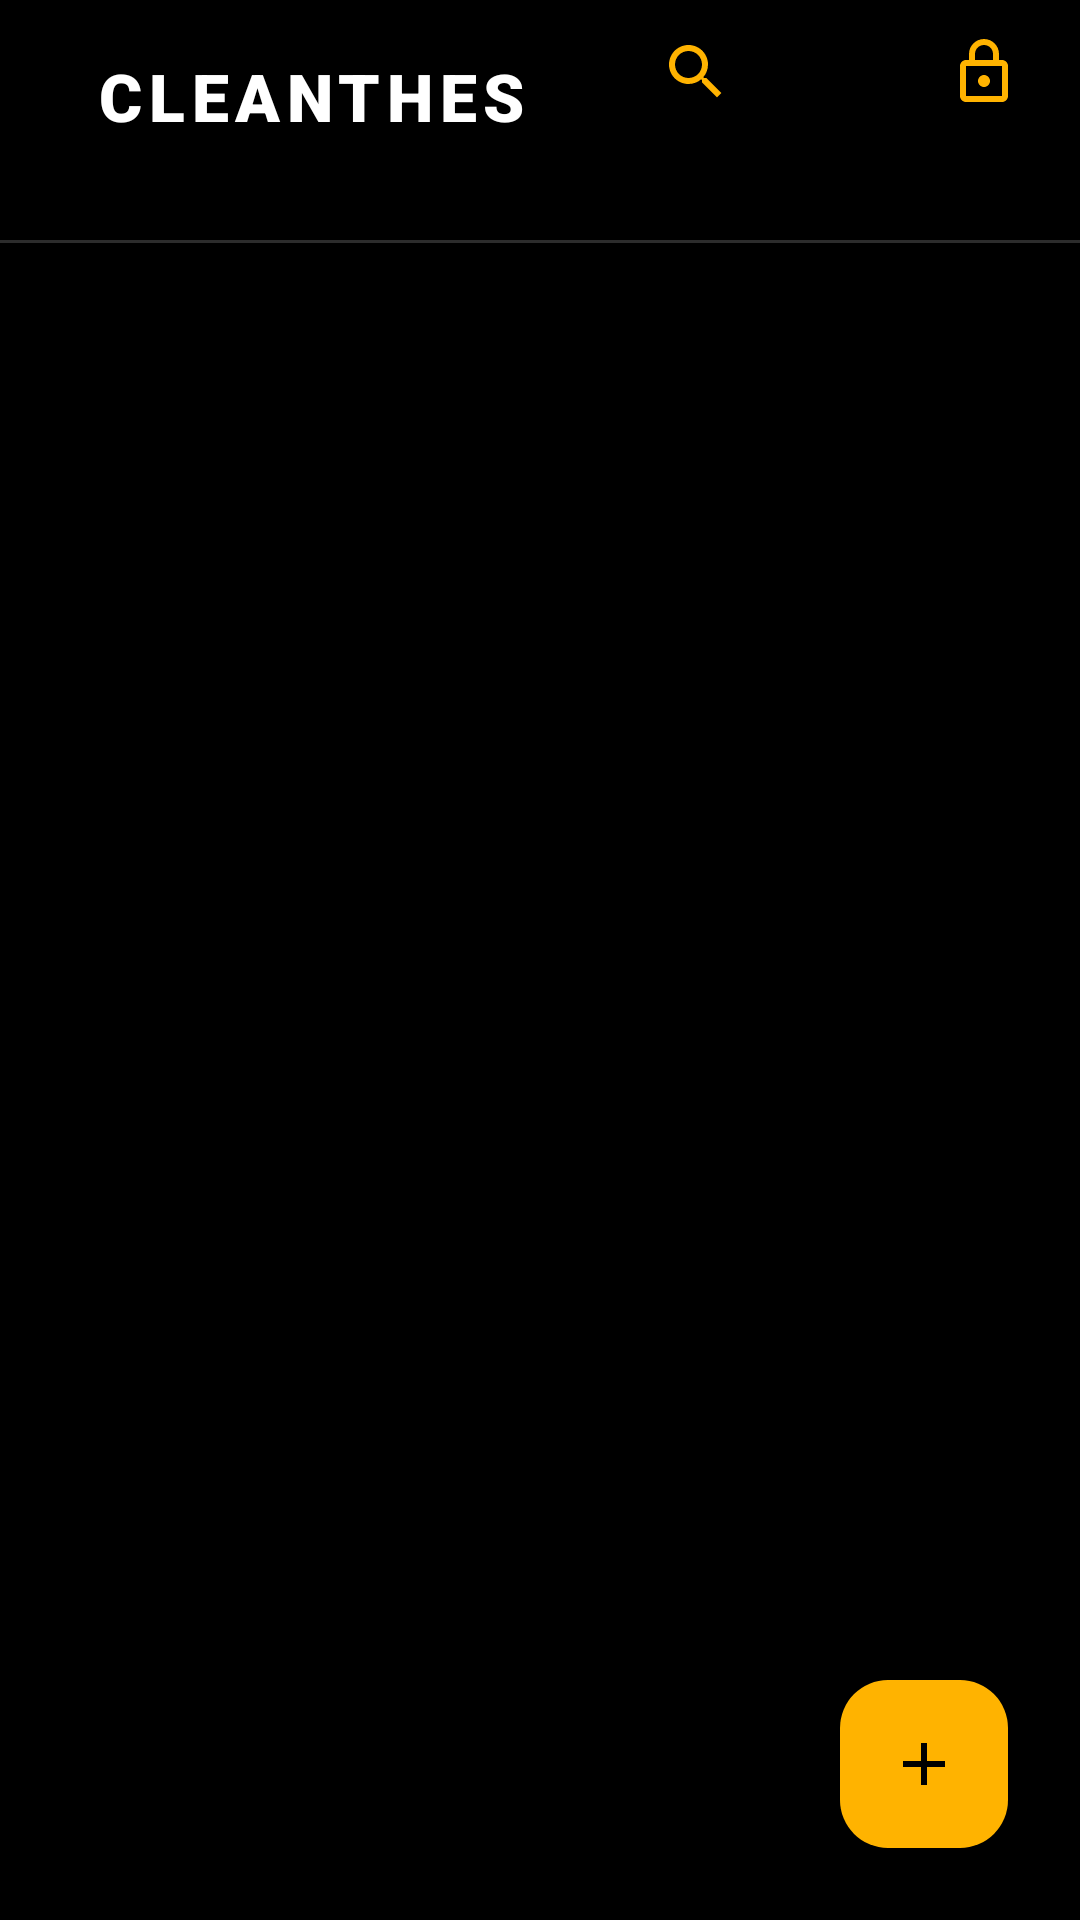

Icons on this 1080 × 1920 Android screen, each with its box as (x1, y1, x2, y2):
add: (840, 1680, 1008, 1848)
lock: (960, 39, 1008, 102)
search: (669, 45, 721, 97)
